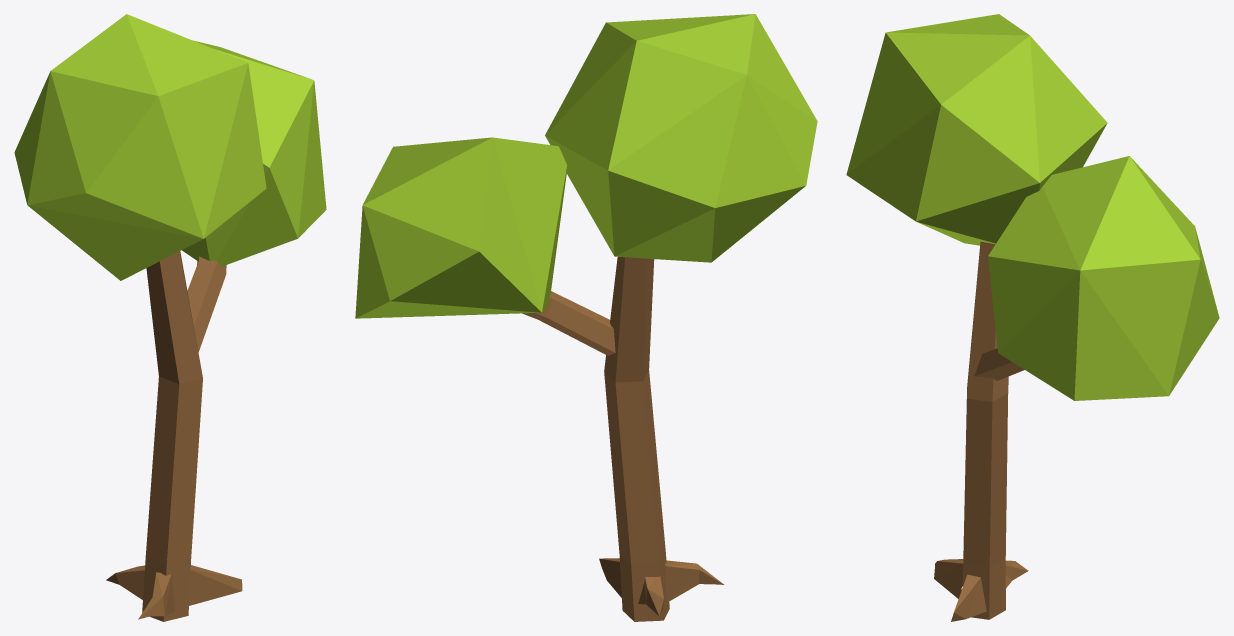
File: tree02.fbx
The picture shows the model from 3 angles, left to right: view 1: azimuth 30°, elevation 25°; view 2: azimuth 150°, elevation 25°; view 3: azimuth 270°, elevation 25°; orthographic projection. The views are drawn at different scales.
Parts seen in each view (by area): view 1: tree02; view 2: tree02; view 3: tree02.
Boxes of the visible parts, x1,y1,x2,y2 form: tree02: (14,14,326,621); tree02: (355,14,817,621); tree02: (846,14,1219,621).
Size of the model in its own units: 178 by 279 by 167.
